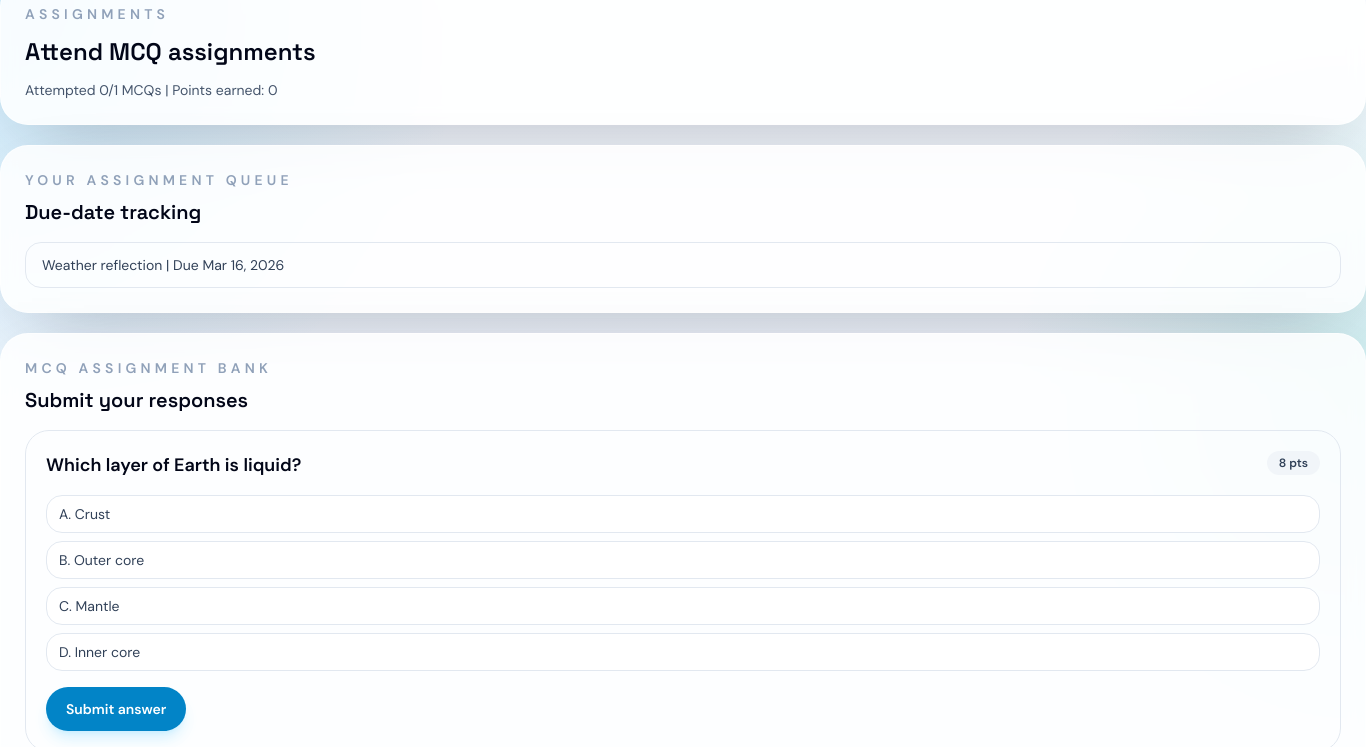
Test: ui components › lets a student attend an MCQ assignment and see the result
expect the text "Which layer of Earth is liquid?" is shown: met, box [46,451,301,479]
Click the button with test id "student-assignments__option__mcq-1__b" at (109, 560), box [46,541,1320,579]
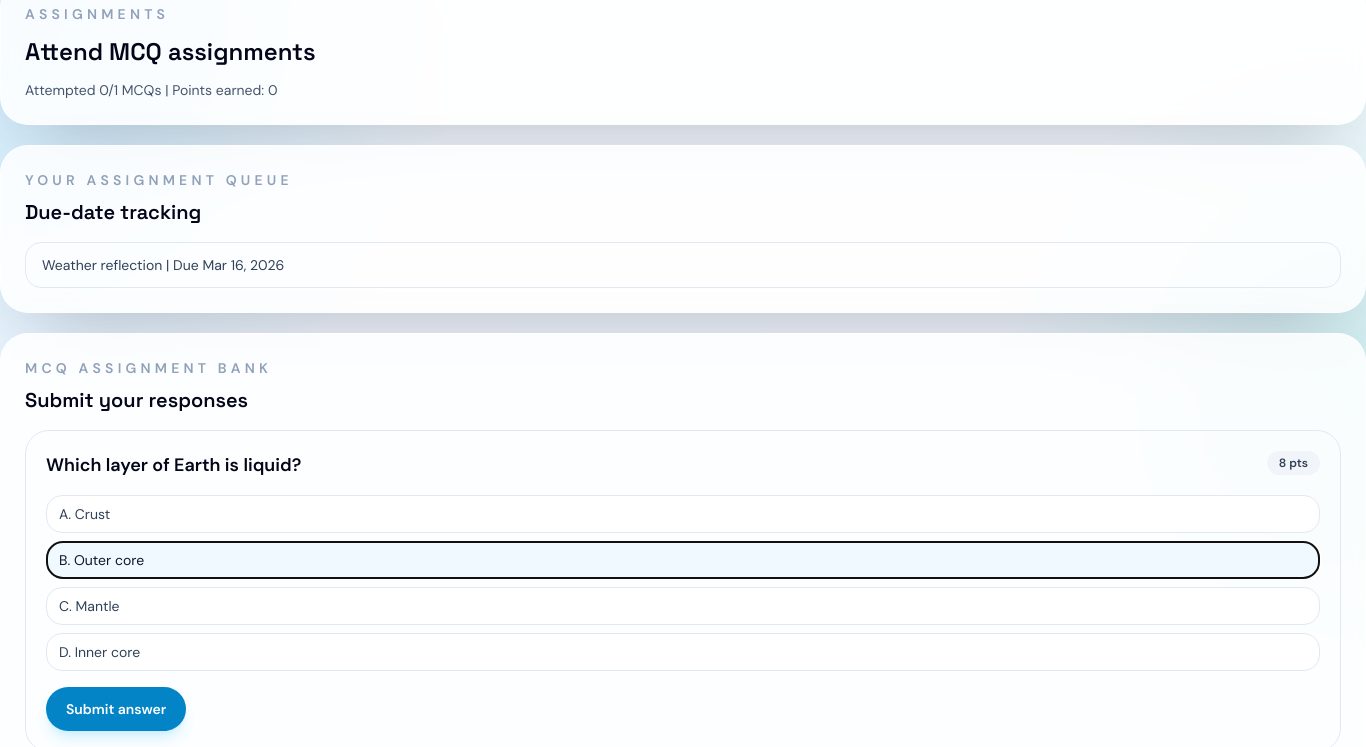
Click the button with test id "student-assignments__submit__mcq-1" at (116, 709), box [46,687,186,731]
(page scrolled)
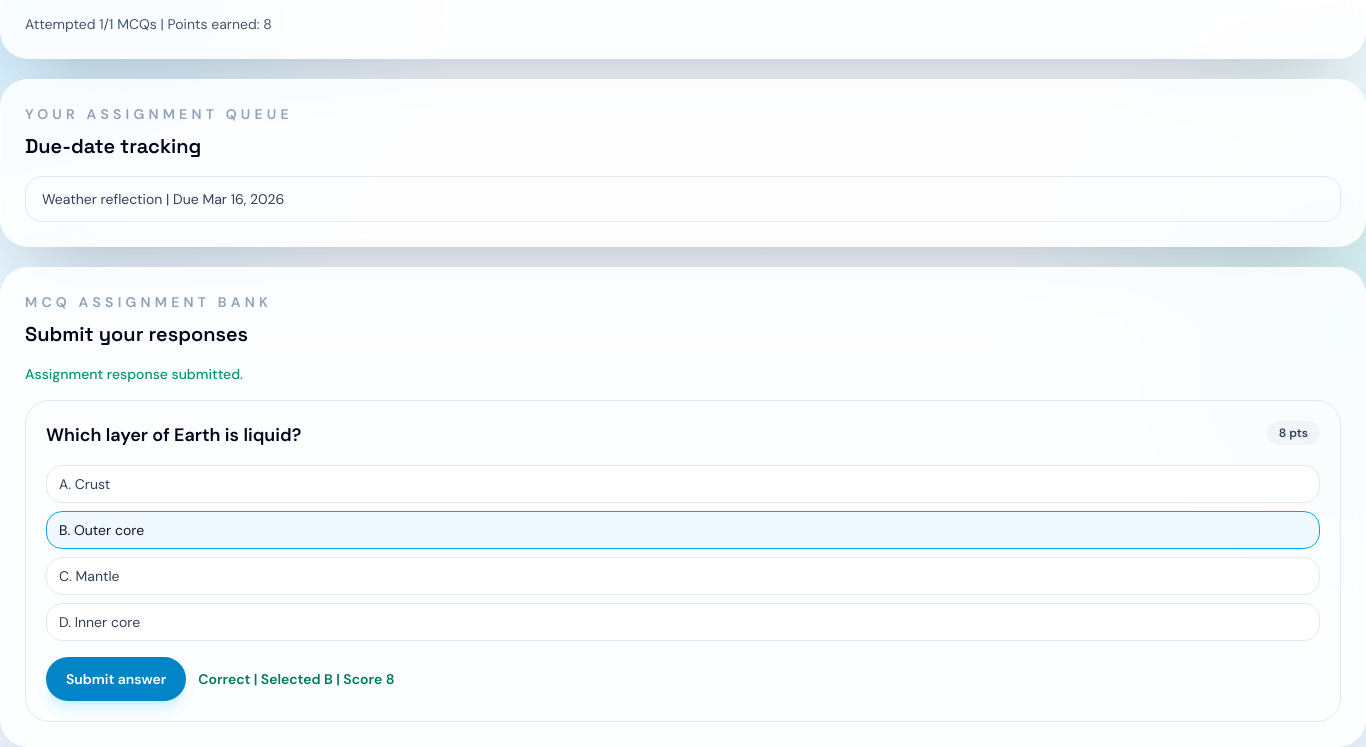
expect the text "Assignment response submitted." is shown: met, box [25,365,243,383]
expect the text "Correct | Selected B | Score 8" is shown: met, box [198,669,394,689]
